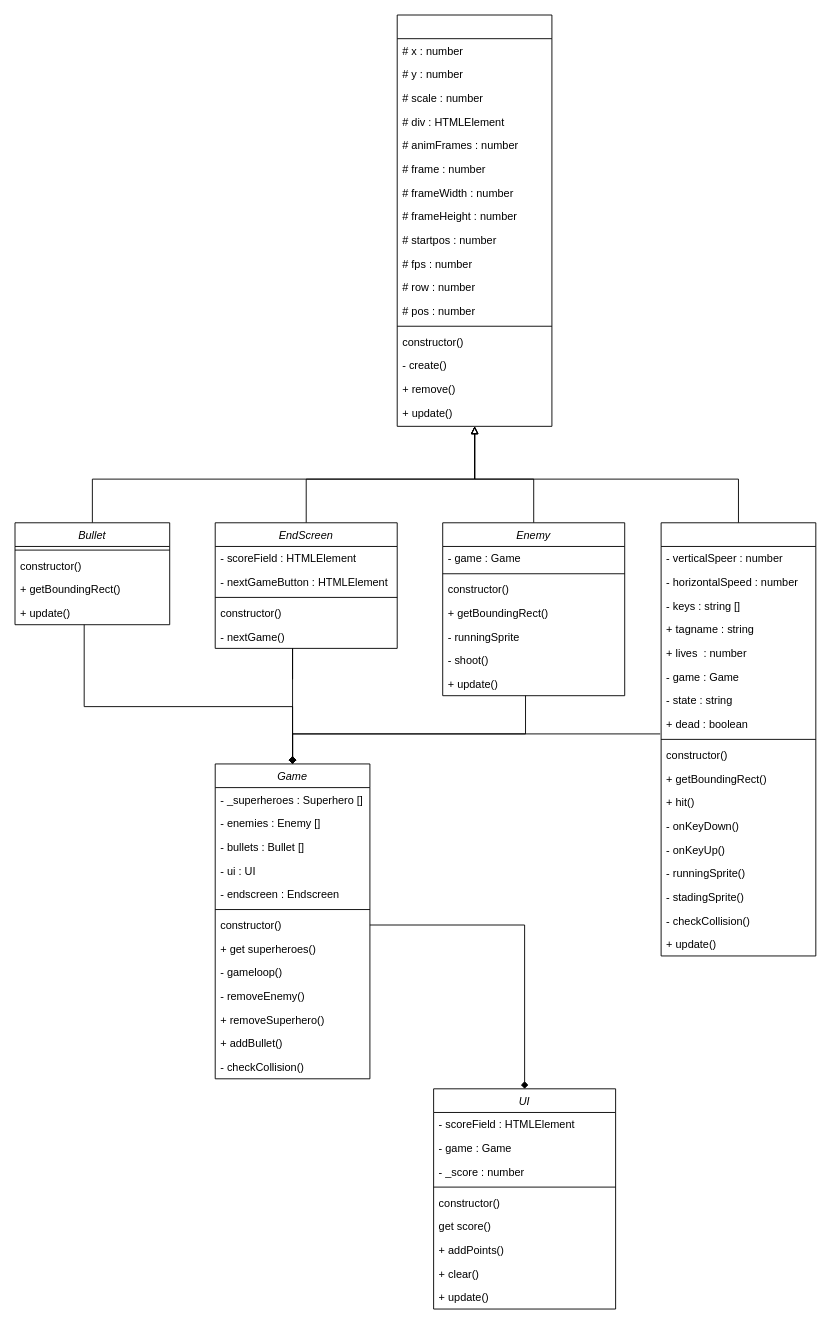
The diagram is 831 pixels wide and 1324 high, and some of its shapes have lost their labels. Each missing label, with the box of its shape:
Entitiy: (396, 14, 552, 426)
Superhero: (660, 522, 816, 956)
